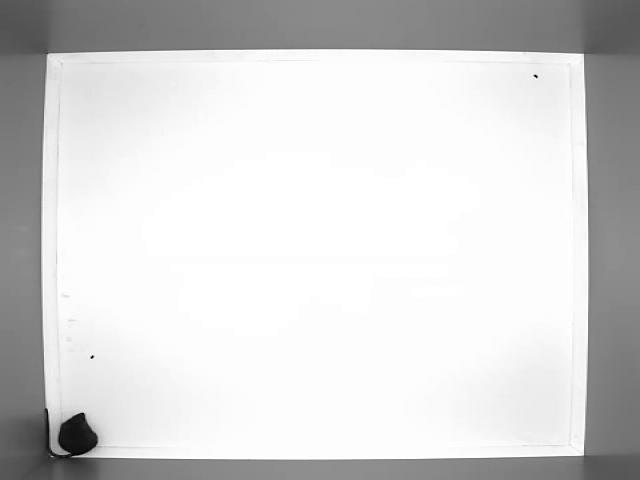Tikus: (40, 396, 119, 461)
